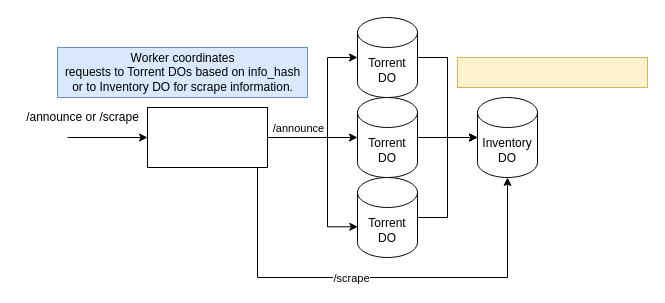
This 665x303 diagram has some shape labels left out. The box of each missing label's shape, as (x1, y1, x2, y2) in pixels:
Torrent DOs will have a cooldown for updates to Inventory DO: (456, 56, 648, 88)
Worker: (146, 106, 268, 168)
